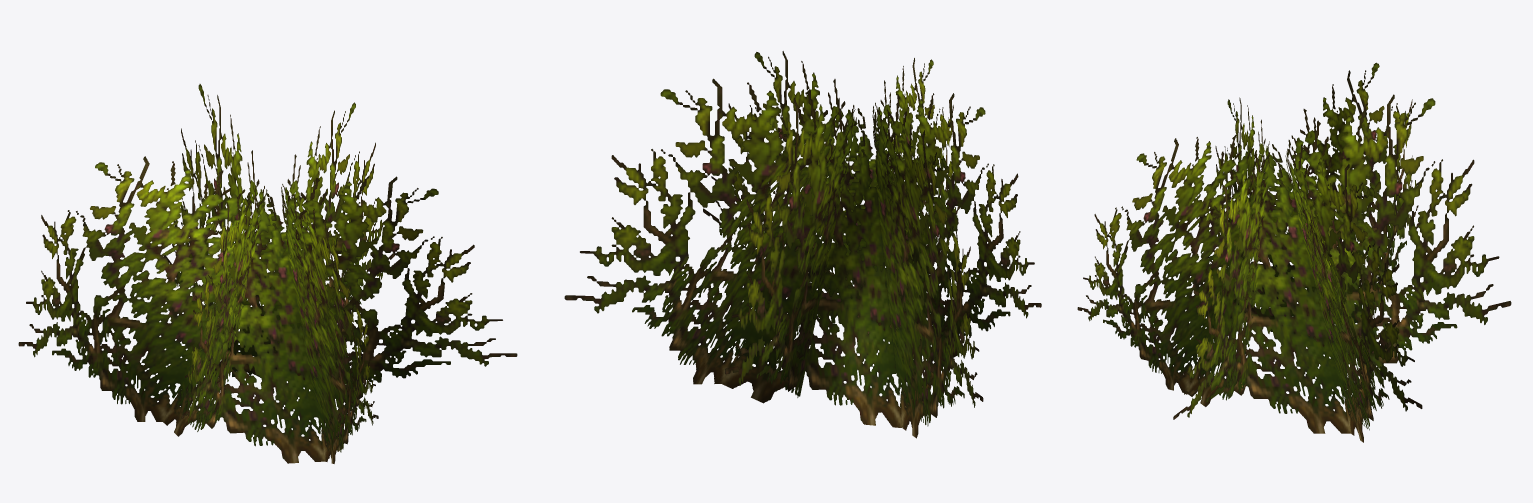
The model's file is elwynnbush09.glb.
3 renders of one model, left to right at view 1: azimuth 30°, elevation 25°; view 2: azimuth 150°, elevation 25°; view 3: azimuth 270°, elevation 25°, orthographic. The views are drawn at different scales.
Size of the model in its own units: 5.73 by 4.66 by 5.66.
1 material, 1 textured.
